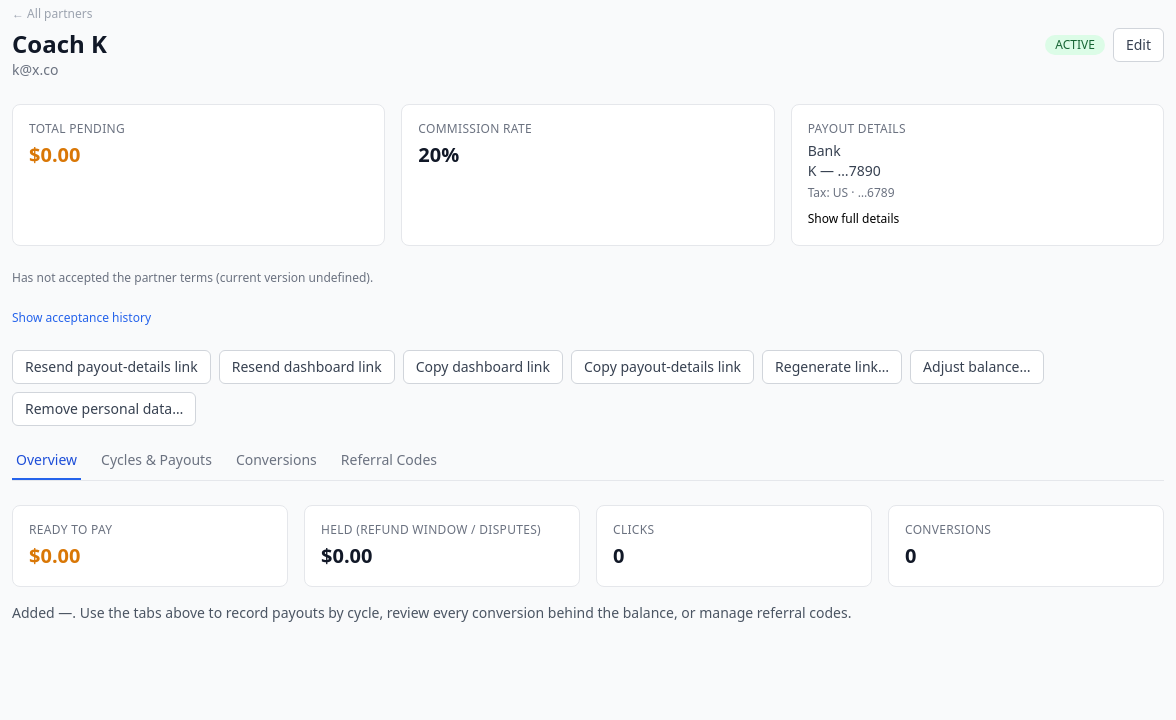
Test case: masked payout details with a step-up reveal › a failed reveal (step-up declined) shows why and leaves the values masked
Click the button with test id "reveal-details".
click(854, 219)  # box [808,211,899,227]
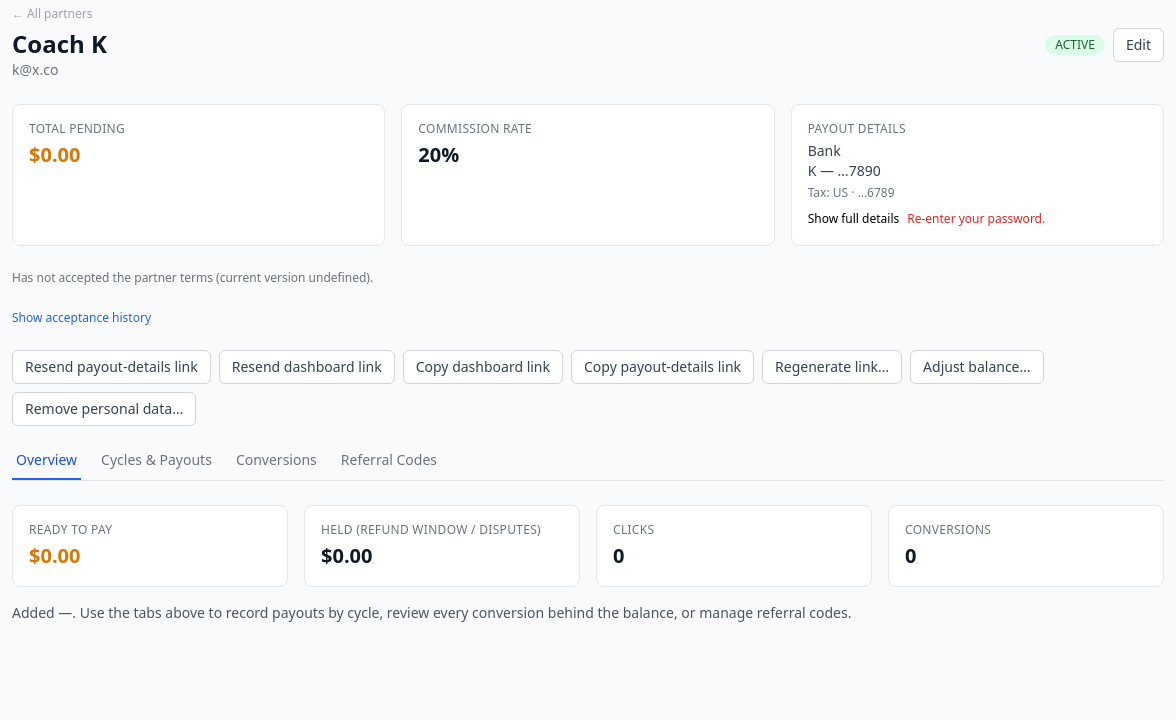
Expected: the message "Re-enter your password." is shown, [907,211,1045,227]
